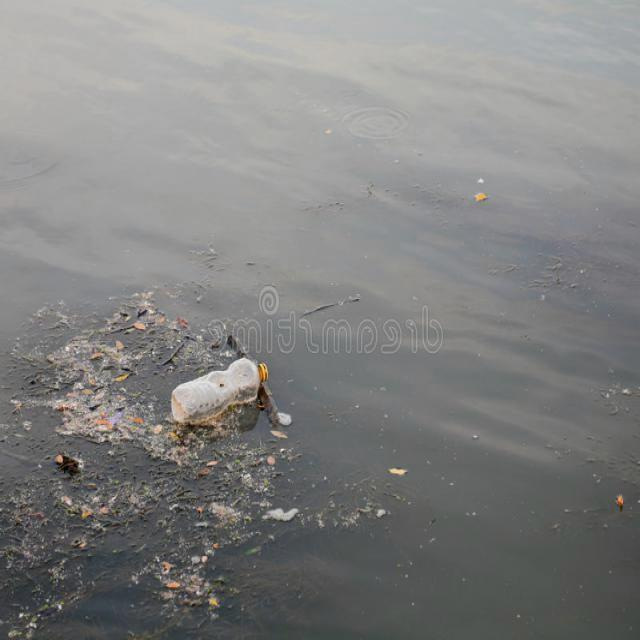Plastic: (167, 355, 273, 428)
